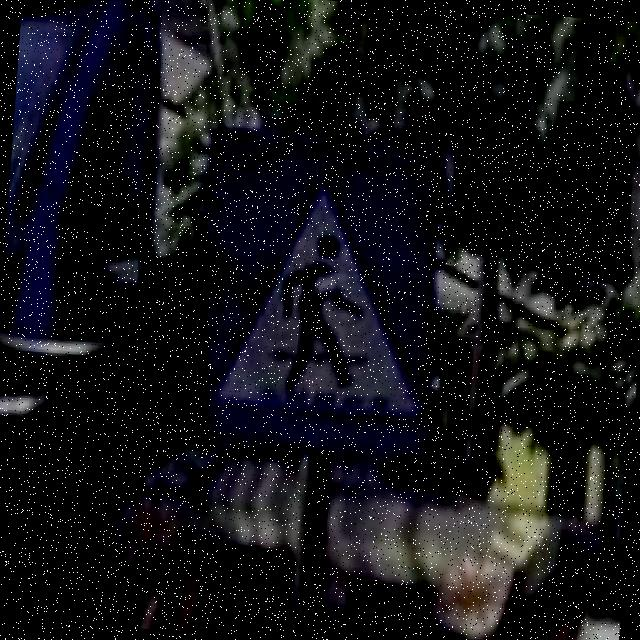Przejscie dla pieszych: (188, 120, 456, 468)
